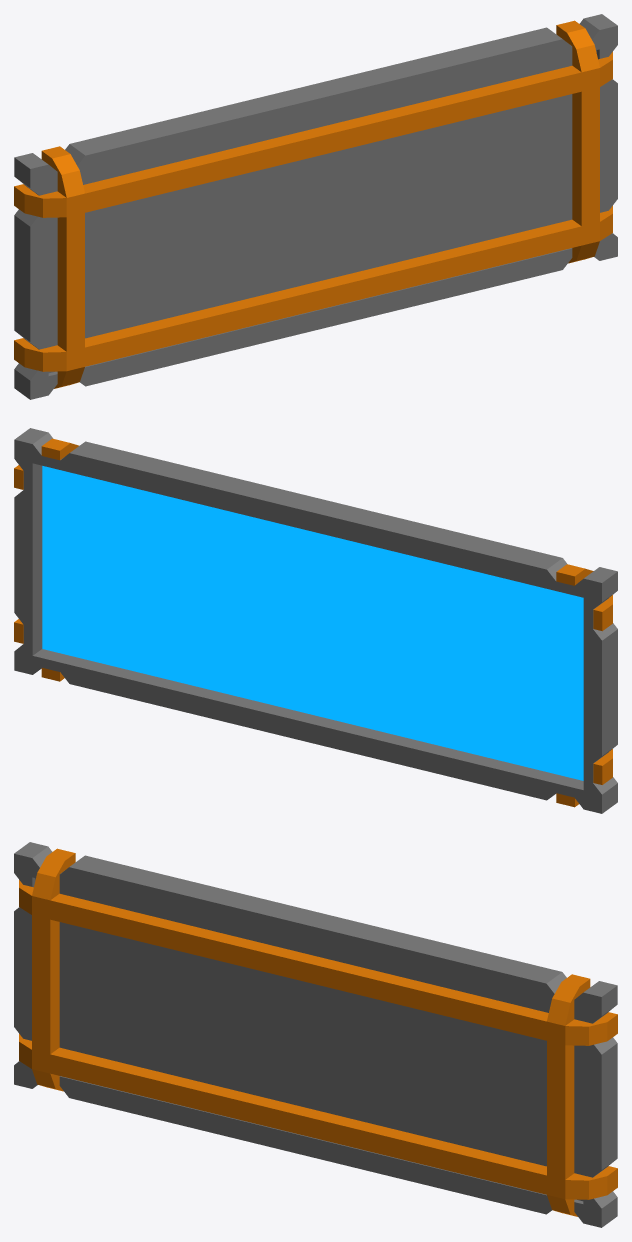
File: menuObjLong.glb
3 renders of one model, top to bottom at view 1: azimuth 30°, elevation 25°; view 2: azimuth 150°, elevation 25°; view 3: azimuth 330°, elevation 25°, orthographic.
Parts seen in each view (by area): view 1: Frame, Backplate; view 2: Screen, Frame, Backplate; view 3: Frame, Backplate.
Part boxes in pixels (box(x1,y1,x2,y2)): Frame: box(14, 14, 617, 399); Backplate: box(14, 20, 612, 388); Screen: box(42, 466, 583, 780); Frame: box(14, 428, 617, 813); Backplate: box(14, 438, 612, 807); Frame: box(14, 842, 617, 1227); Backplate: box(19, 848, 617, 1216).
Size of what is drawn, in the model's own units: 6.4 by 2.4 by 0.4744.
